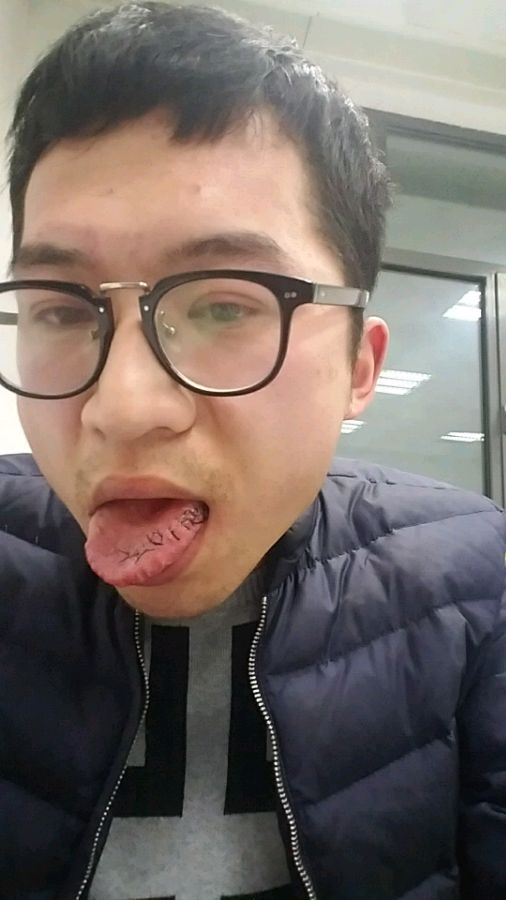chihenshe: (125, 557, 166, 584)
hongshe: (85, 500, 204, 587)
liewenshe: (116, 506, 203, 562)
